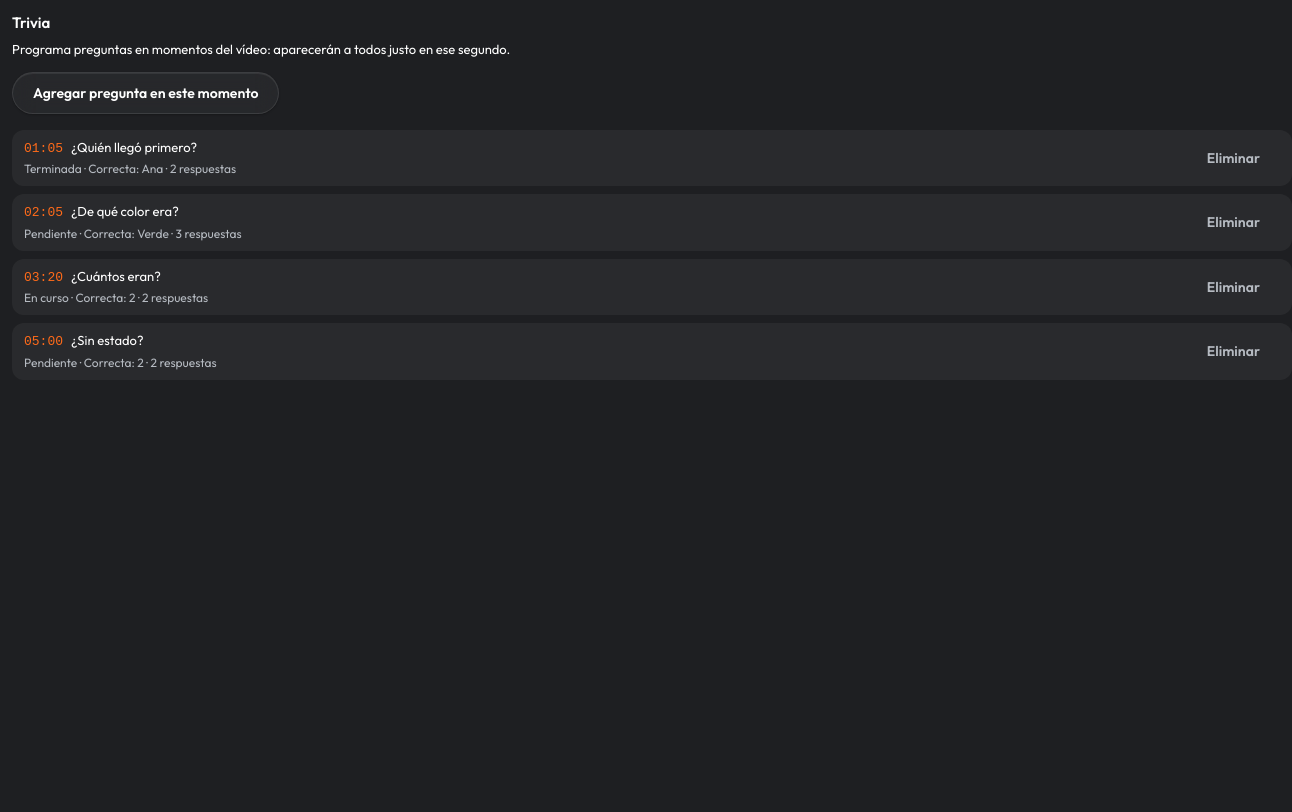
it: TriviaPanel — host › valida el borrador y el tiempo antes de enviar
The width and height of the screenshot is (1292, 812).
Click the button "Agregar pregunta en este momento".
click(146, 93)  # box [12,72,280,114]
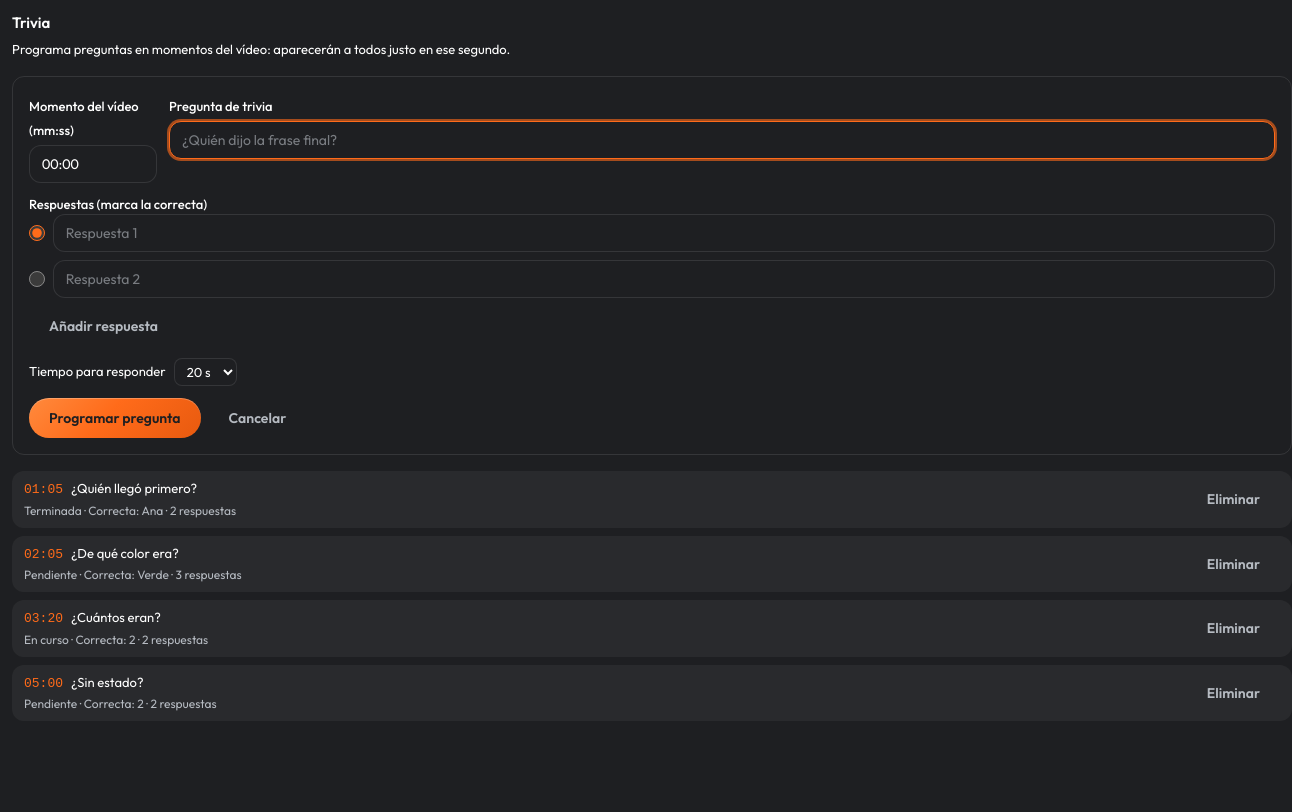
Expected: the field labelled "Momento del vídeo (mm:ss)" holds "00:00", [29,145,157,183]
Click the button "Programar pregunta".
click(115, 418)  # box [29,398,201,438]
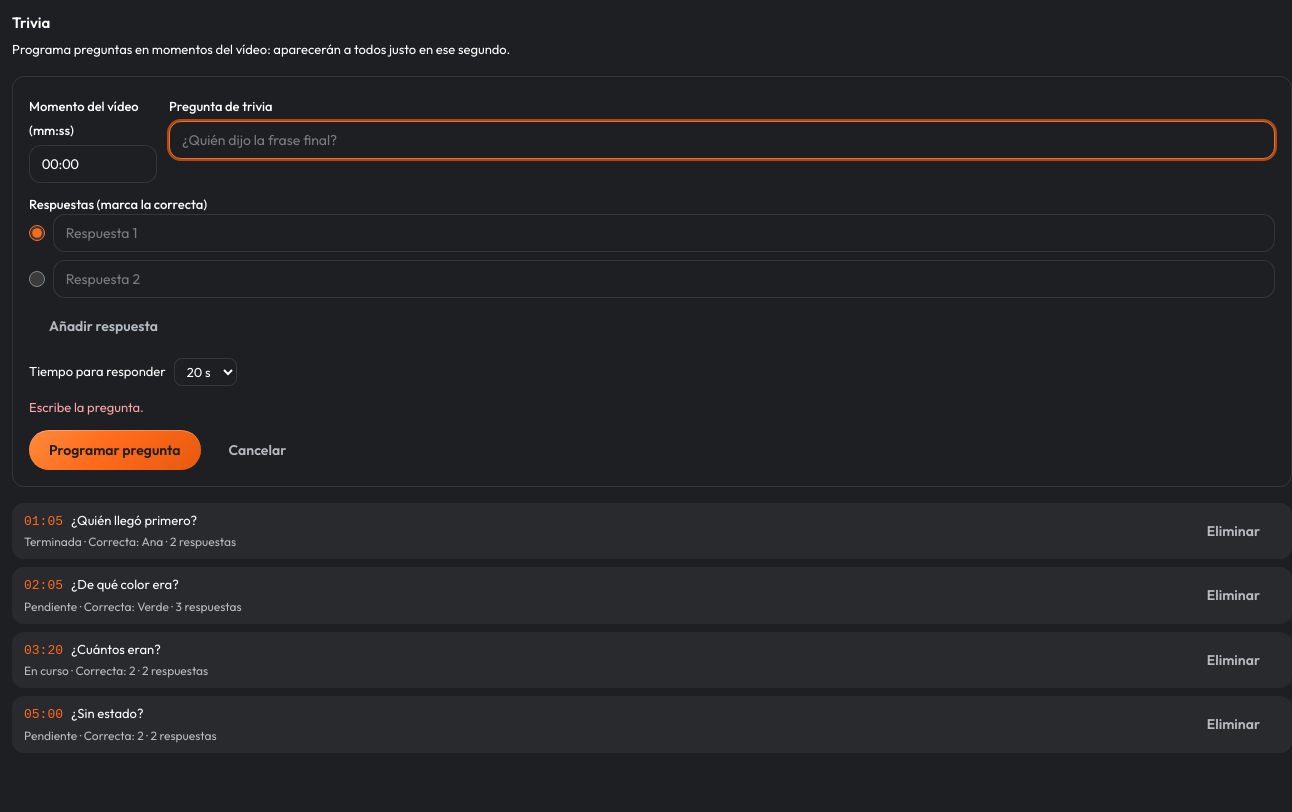
Expected: the message reads "Escribe la pregunta.", [29,399,144,415]
Replace the text in the field labelled "Momento del vídeo (mm:ss)" with "ayer" at (93, 164), box [29,145,157,183]
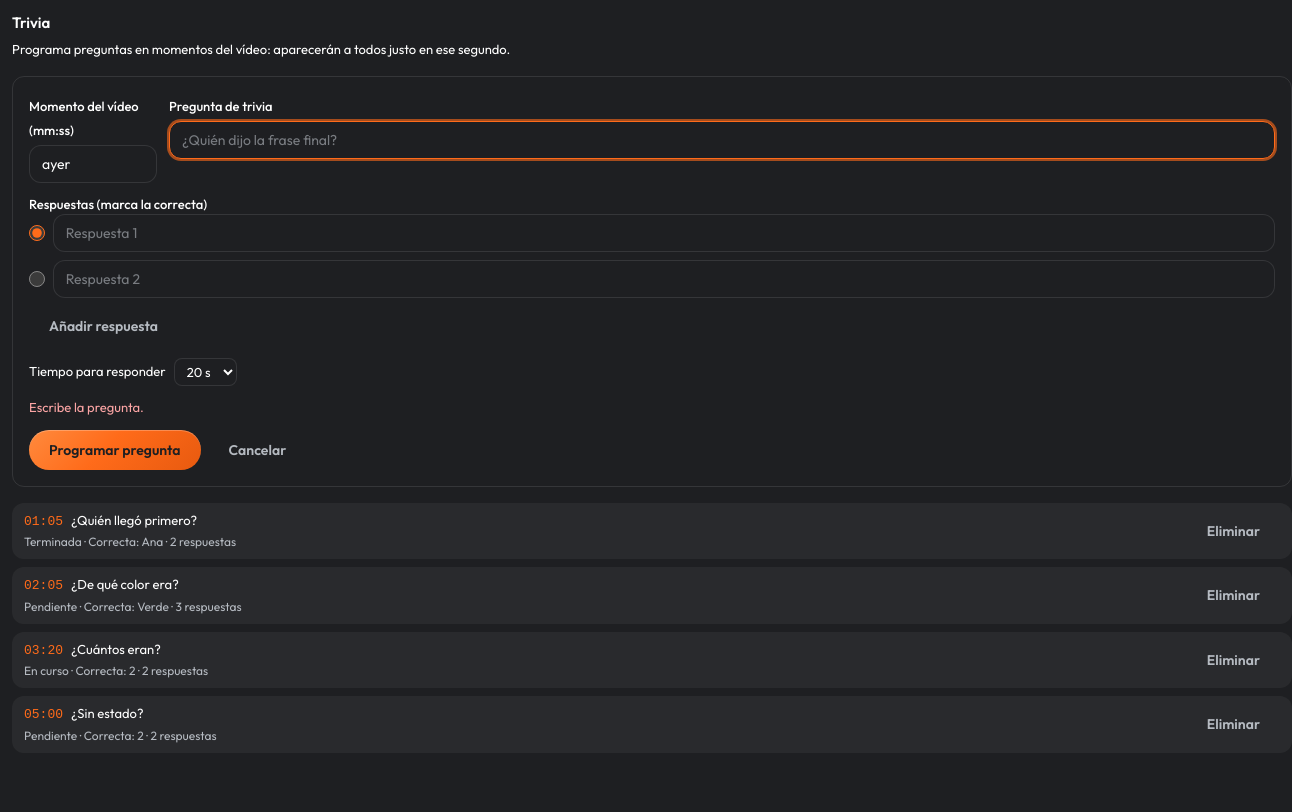
Click the button "Programar pregunta".
click(115, 450)  # box [29,430,201,470]
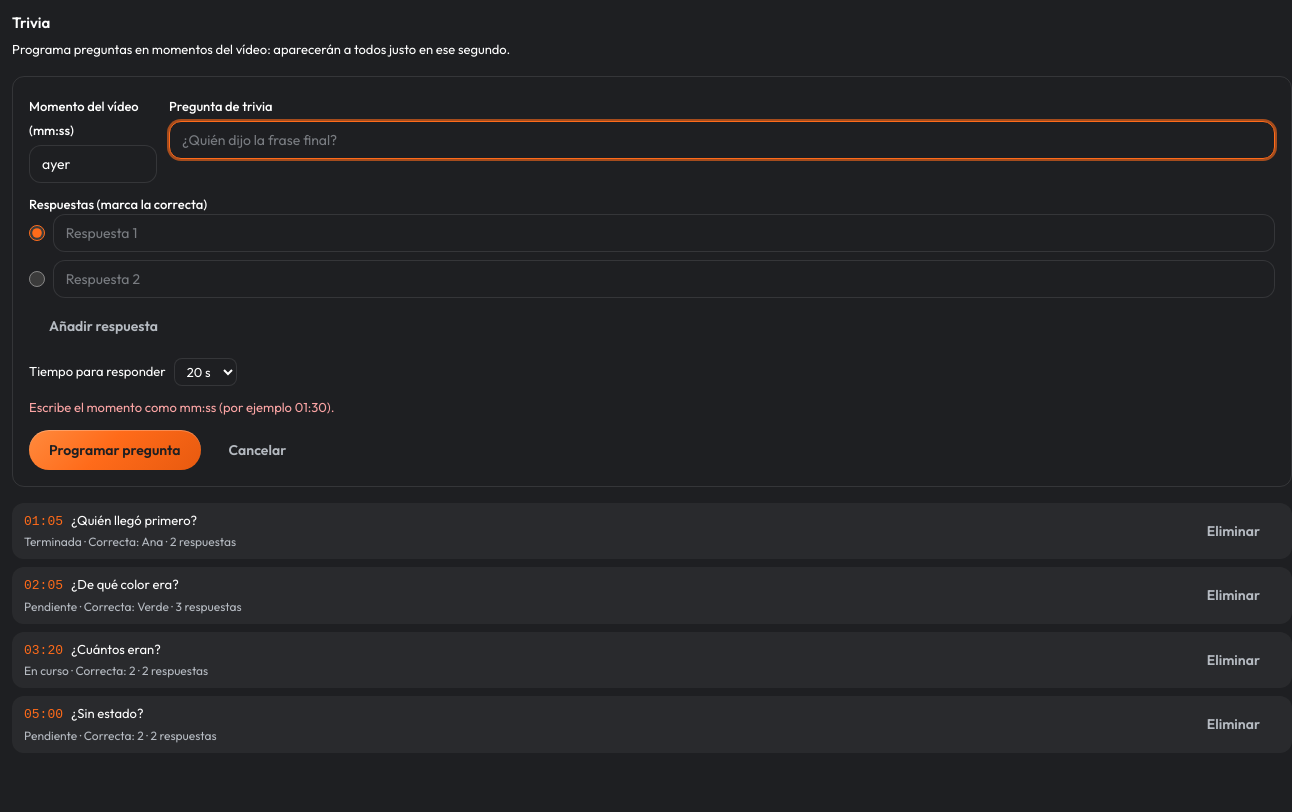
Expected: the message shows "mm:ss", [29,399,334,415]
